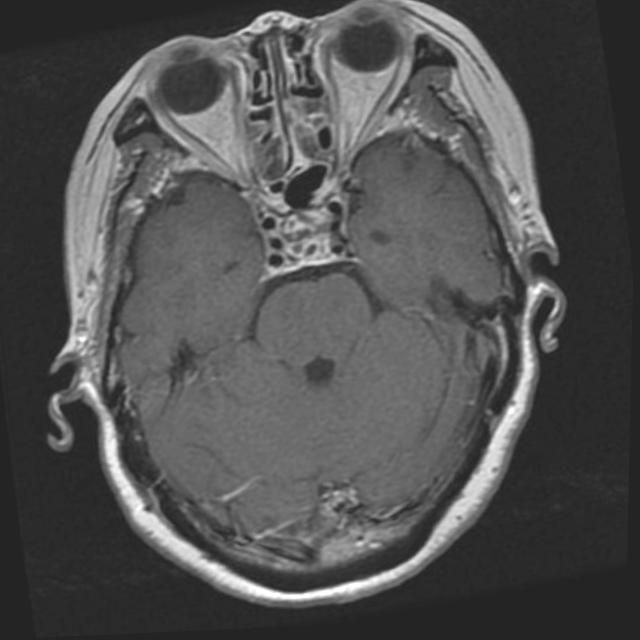Pituitary: (276, 205, 336, 265)
